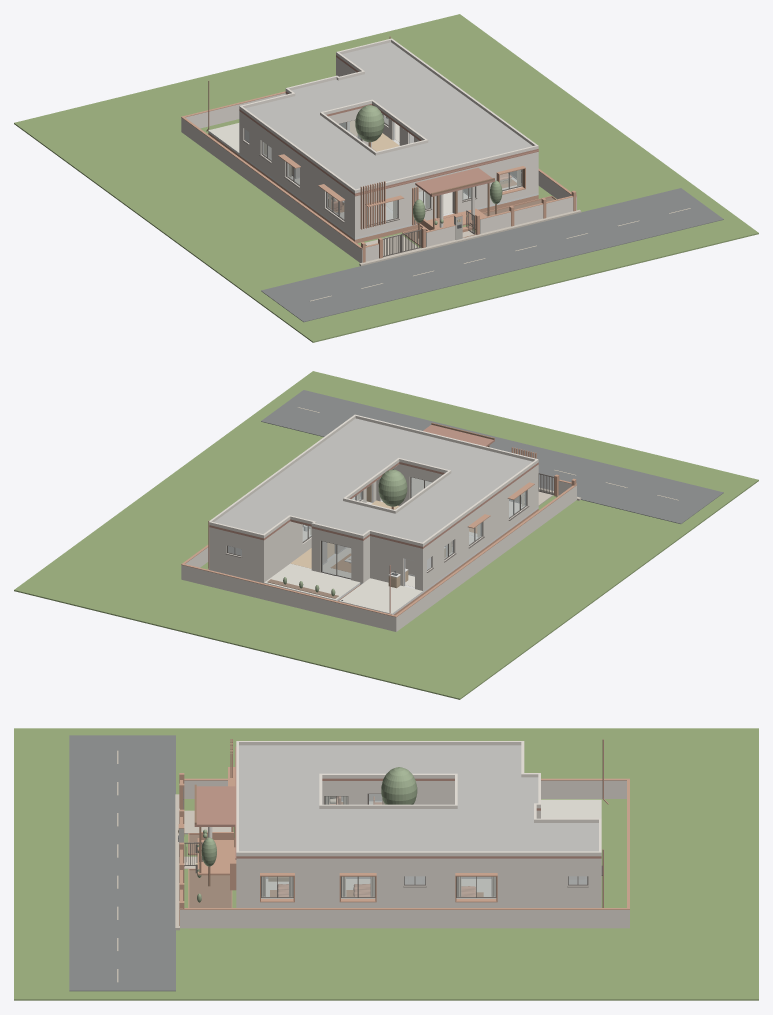
The picture shows the model from 3 angles, top to bottom: view 1: azimuth 30°, elevation 25°; view 2: azimuth 150°, elevation 25°; view 3: azimuth 270°, elevation 25°; orthographic projection. The views are drawn at different scales.
Parts seen in each view (by area): view 1: world, custom-roof-finish-0, custom-roof-edge-0, exterior-porch-01-roof, roof-floor-0, F0-floor, wall-f1275dc19c40ba275a/1, wall-f1275dc19c40ba275a/2, wall-2e1013db464b9778b7/2; view 2: world, custom-roof-finish-0, custom-roof-edge-0, a-yard/floor, a-garden/floor, wall-cc06c0b826a4a03913/0, roof-floor-0, wall-651c4295f9a54821dd/0, wall-cc06c0b826a4a03913/2, F0-floor, wall-6af75f05e5269bd532/0, wall-651c4295f9a54821dd/1 (+4 smaller); view 3: world, custom-roof-finish-0, custom-roof-edge-0, exterior-porch-01-roof, wall-ec0c6087d21505ac57/0, roof-floor-0, site-bed-right, wall-6210e158ddb25c219a/2, wall-214eb682cd6ab0a6bf/1, a-yard/floor, wall-214eb682cd6ab0a6bf/2, wall-6210e158ddb25c219a/1 (+10 smaller).
Part boxes in pixels (x1,y1,x2,y2): world: [14, 14, 758, 342]; custom-roof-finish-0: [245, 42, 532, 189]; custom-roof-edge-0: [239, 38, 538, 193]; exterior-porch-01-roof: [415, 168, 494, 196]; roof-floor-0: [239, 55, 538, 195]; F0-floor: [208, 118, 538, 239]; wall-f1275dc19c40ba275a/1: [306, 173, 357, 229]; wall-f1275dc19c40ba275a/2: [306, 160, 357, 208]; wall-2e1013db464b9778b7/2: [485, 152, 538, 174]; world: [14, 371, 758, 699]; custom-roof-finish-0: [214, 418, 532, 542]; custom-roof-edge-0: [209, 414, 538, 546]; a-yard/floor: [339, 578, 422, 613]; a-garden/floor: [264, 563, 359, 600]; wall-cc06c0b826a4a03913/0: [209, 549, 265, 582]; roof-floor-0: [209, 462, 538, 548]; wall-651c4295f9a54821dd/0: [371, 550, 419, 590]; wall-cc06c0b826a4a03913/2: [209, 527, 265, 554]; F0-floor: [209, 500, 538, 614]; wall-6af75f05e5269bd532/0: [266, 527, 282, 580]; wall-651c4295f9a54821dd/1: [371, 536, 419, 561]; world: [14, 728, 758, 1000]; custom-roof-finish-0: [239, 745, 598, 851]; custom-roof-edge-0: [236, 741, 601, 856]; exterior-porch-01-roof: [194, 786, 235, 826]; wall-ec0c6087d21505ac57/0: [523, 859, 554, 907]; roof-floor-0: [236, 778, 601, 858]; site-bed-right: [189, 870, 231, 907]; wall-6210e158ddb25c219a/2: [436, 859, 522, 873]; wall-214eb682cd6ab0a6bf/1: [240, 873, 322, 898]; a-yard/floor: [541, 799, 601, 818]; wall-214eb682cd6ab0a6bf/2: [240, 859, 322, 873]; wall-6210e158ddb25c219a/1: [436, 873, 522, 898].
Bounding box in the file's own units: 34.76 × 5.37 × 40.38.
